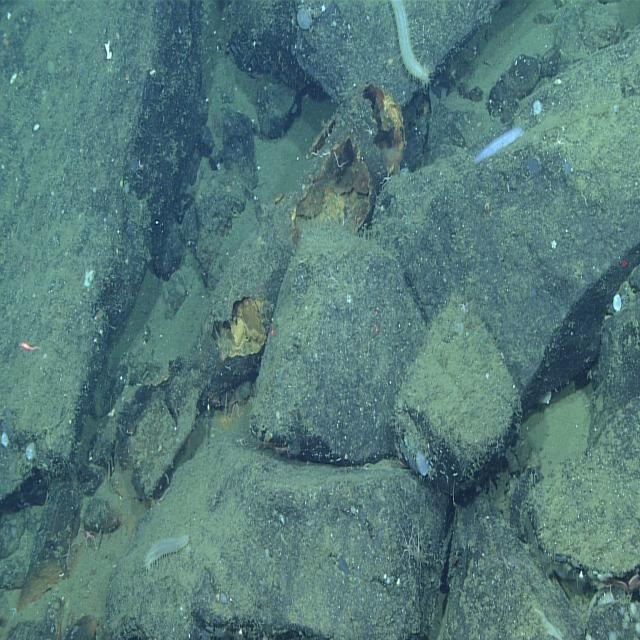Brittle Star: (394, 521, 424, 571)
Not Brittle Star: (120, 76, 407, 510), (391, 1, 436, 101), (472, 122, 527, 169), (142, 529, 191, 574), (296, 7, 313, 33), (575, 568, 589, 591)
